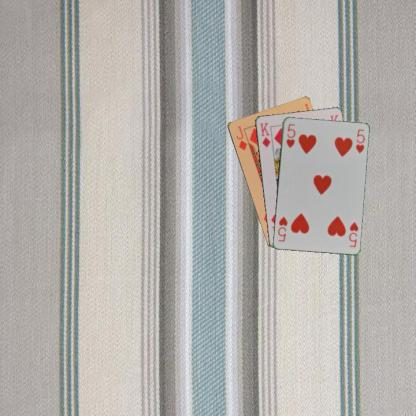5h: (346, 219, 359, 248), (284, 121, 296, 149)
Jd: (233, 123, 248, 151)
Kd: (257, 120, 272, 149)
